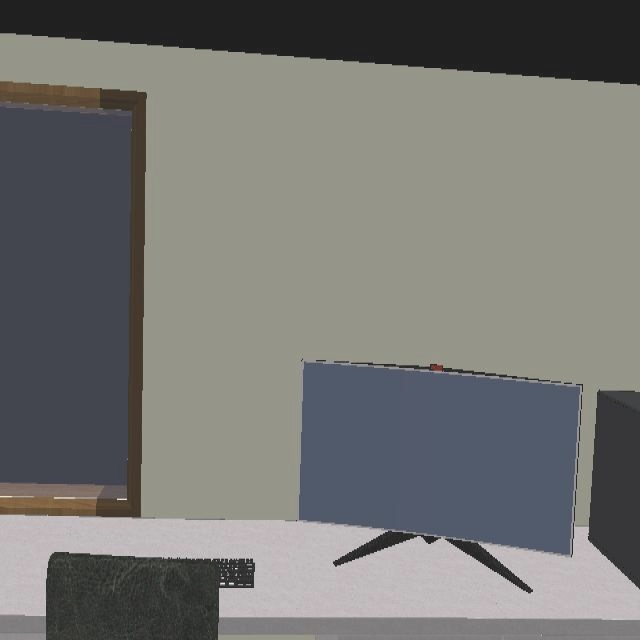monitor: (299, 362, 582, 591)
table: (0, 518, 640, 640)
